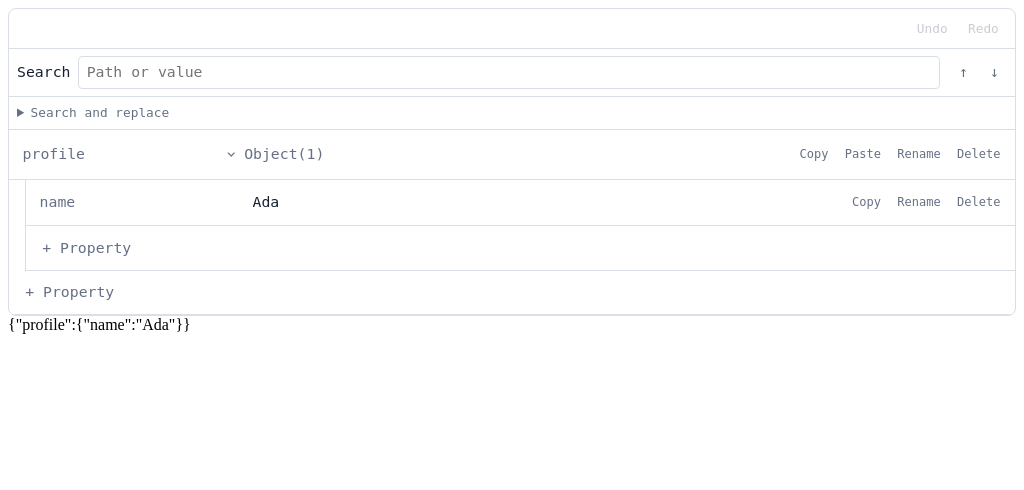
Test: ObjectEditor › updates nested required validation through delete and undo
Click the button with aria-label "Delete profile.name": [979, 203] box [950,189,1007,216]
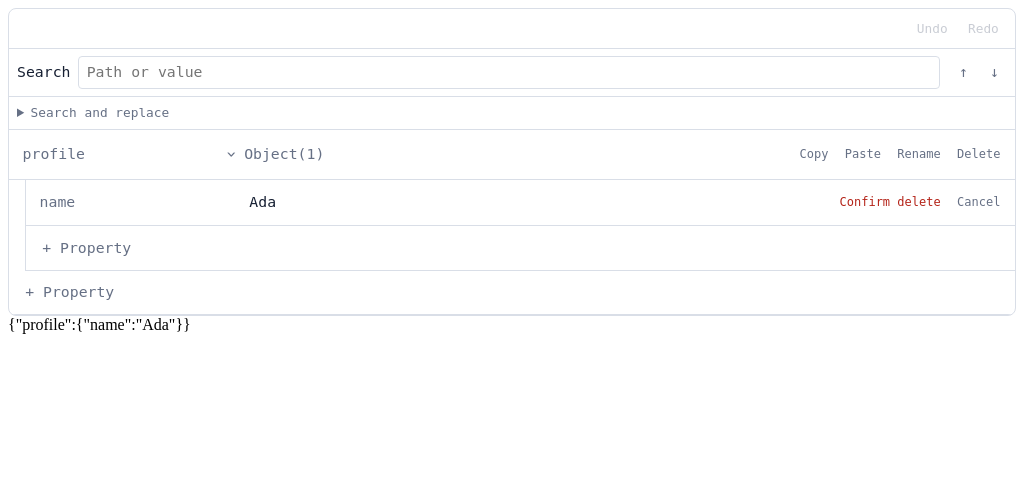
Click the button "Confirm delete": [890, 203] box [833,189,947,216]
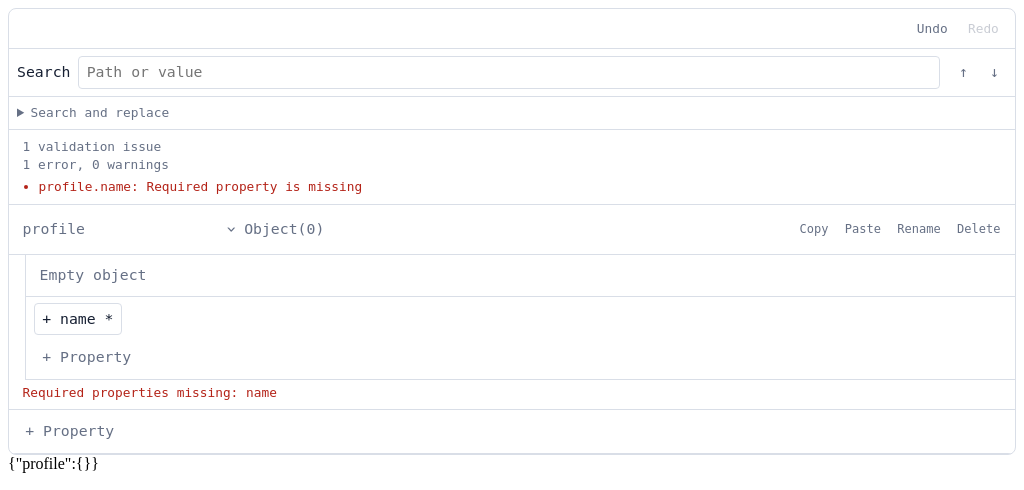
Now the message reads "Required properties missing: name", box [23,385,277,400]
Click the button "Undo": [932, 29] box [909,15,956,42]
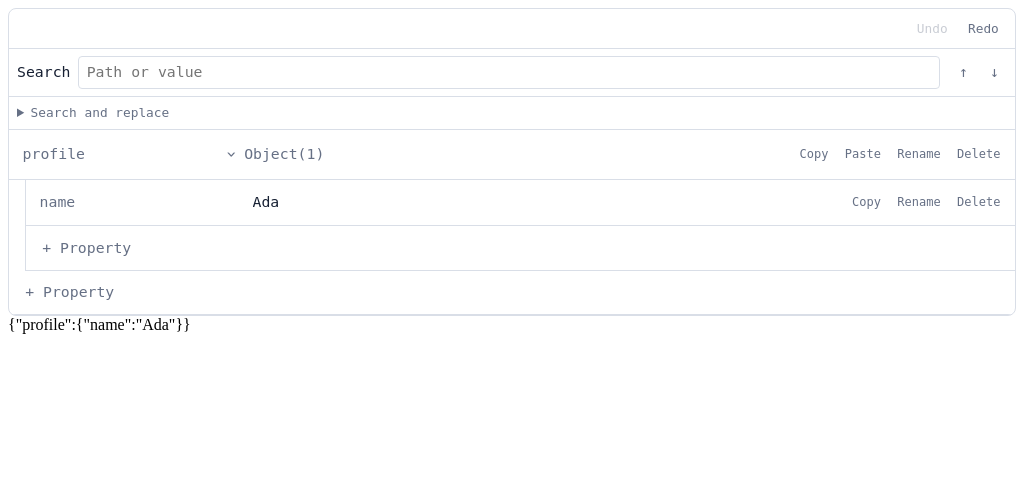
Now the message "Required properties missing: name" is gone
